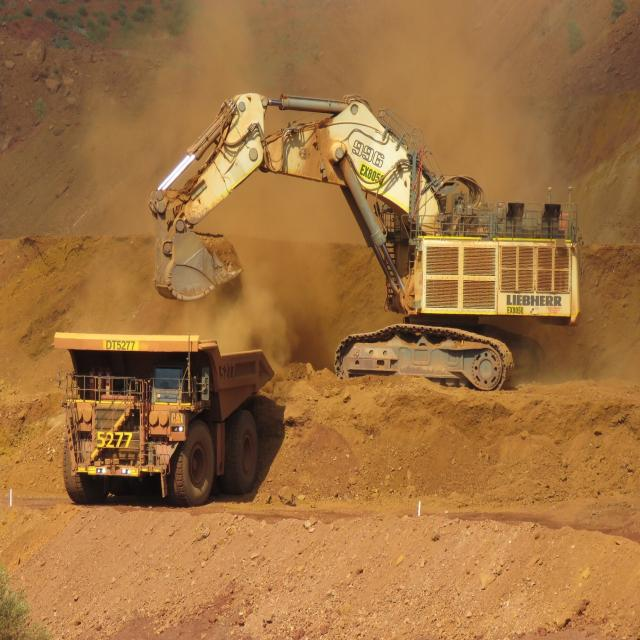dump_truck: (44, 300, 277, 528)
excavator: (140, 73, 596, 428)
